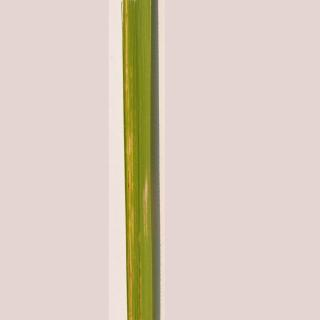Hawar-Daun: (118, 6, 138, 314), (133, 172, 159, 247)
